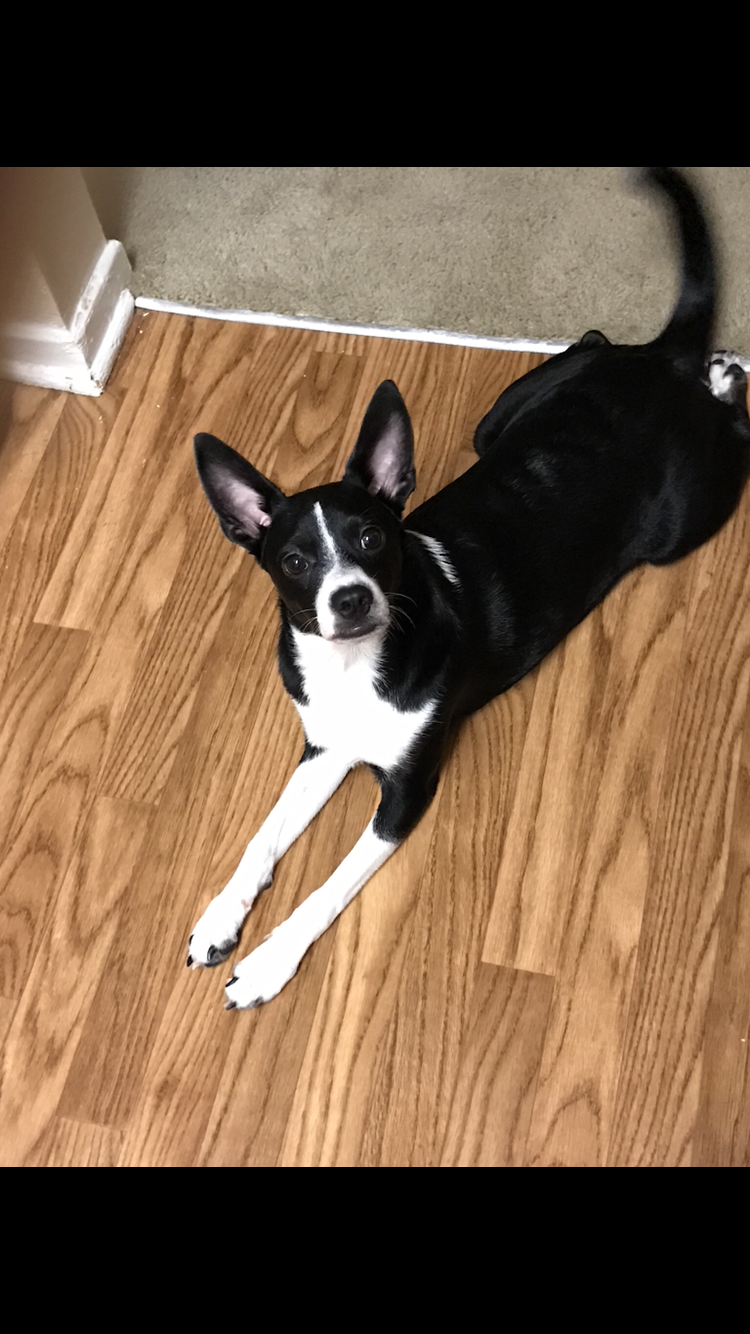Harley: (171, 185, 750, 1013)
